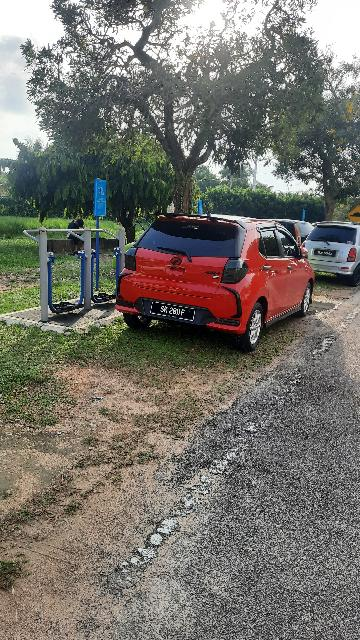License_Plate: (150, 299, 203, 326)
car: (113, 214, 318, 346), (306, 215, 360, 286)
